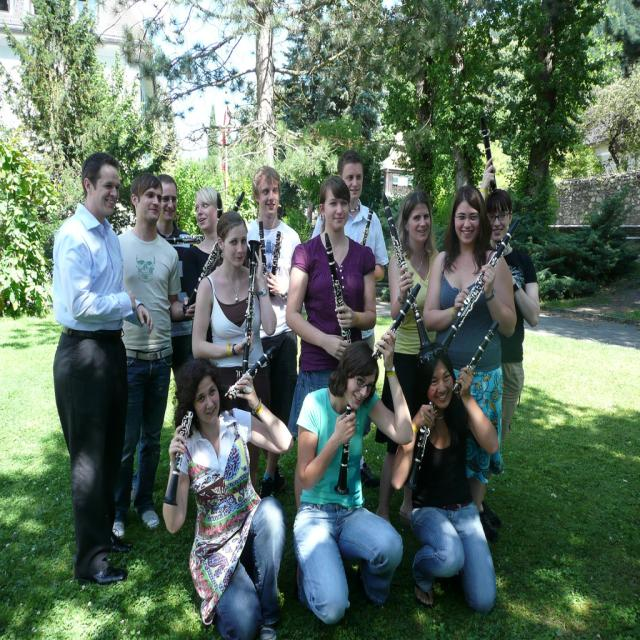clarinet: (437, 217, 524, 354), (379, 188, 431, 351), (183, 190, 248, 317), (322, 232, 357, 348), (373, 278, 423, 358), (453, 317, 503, 393), (223, 343, 278, 401), (240, 237, 262, 380), (162, 411, 195, 505), (405, 398, 436, 492), (334, 402, 358, 498)
